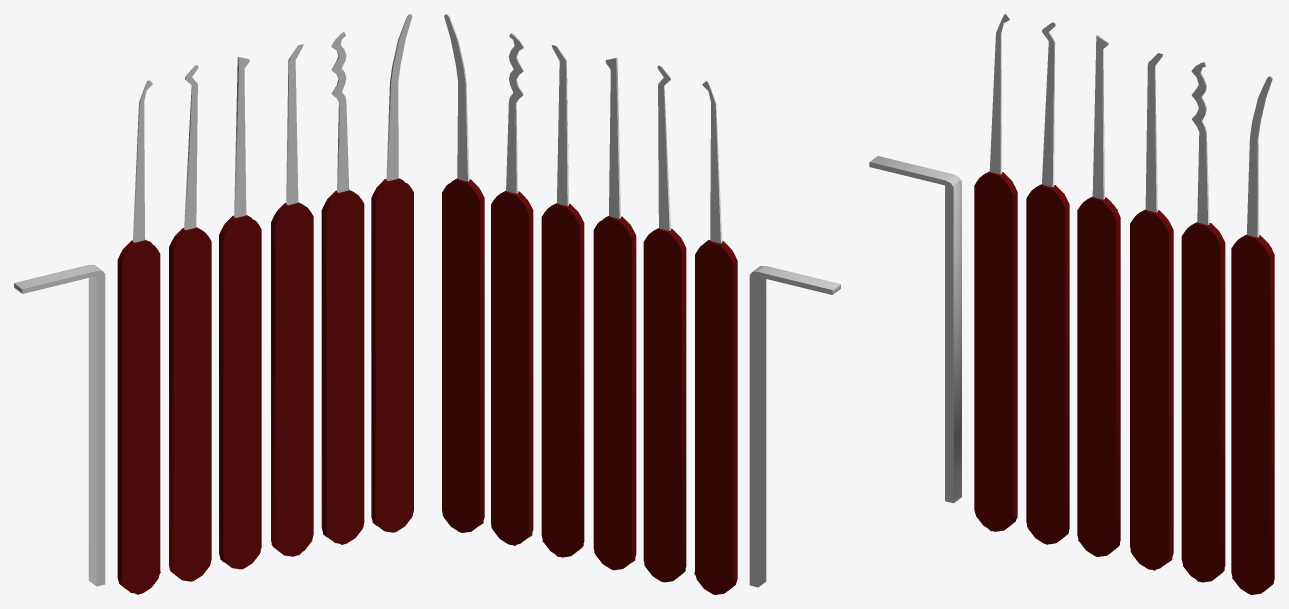
Rendered from lockpicks.glb.
The picture shows the model from 3 angles, left to right: view 1: azimuth 30°, elevation 25°; view 2: azimuth 150°, elevation 25°; view 3: azimuth 330°, elevation 25°; orthographic projection.
Parts seen in each view (by area): view 1: Object_4, Object_16, Object_13, Object_19, Object_10, Object_7, Object_22, Object_11, Object_20, Object_14, Object_17, Object_8 (+1 smaller); view 2: Object_10, Object_13, Object_7, Object_16, Object_19, Object_4, Object_22, Object_11, Object_20, Object_14, Object_17, Object_8 (+1 smaller); view 3: Object_16, Object_13, Object_19, Object_10, Object_4, Object_7, Object_22, Object_11, Object_14, Object_17, Object_20, Object_8 (+1 smaller).
Part boxes in pixels (x1=…): Object_4: x1=117, y1=239, x2=160, y2=594; Object_16: x1=321, y1=190, x2=364, y2=544; Object_13: x1=271, y1=202, x2=313, y2=556; Object_19: x1=371, y1=178, x2=413, y2=532; Object_10: x1=219, y1=215, x2=261, y2=569; Object_7: x1=169, y1=227, x2=211, y2=581; Object_22: x1=14, y1=265, x2=105, y2=586; Object_11: x1=234, y1=56, x2=249, y2=217; Object_20: x1=386, y1=14, x2=412, y2=180; Object_14: x1=286, y1=44, x2=303, y2=205; Object_17: x1=331, y1=32, x2=349, y2=192; Object_8: x1=184, y1=65, x2=198, y2=230; Object_10: x1=593, y1=216, x2=636, y2=570; Object_13: x1=541, y1=203, x2=584, y2=557; Object_7: x1=643, y1=228, x2=686, y2=582; Object_16: x1=491, y1=191, x2=533, y2=545; Object_19: x1=442, y1=178, x2=484, y2=532; Object_4: x1=694, y1=240, x2=737, y2=594; Object_22: x1=749, y1=266, x2=840, y2=587; Object_11: x1=605, y1=57, x2=620, y2=218; Object_20: x1=444, y1=14, x2=469, y2=181; Object_14: x1=551, y1=45, x2=568, y2=205; Object_17: x1=506, y1=33, x2=523, y2=193; Object_8: x1=657, y1=65, x2=670, y2=230; Object_16: x1=1181, y1=222, x2=1225, y2=582; Object_13: x1=1130, y1=209, x2=1173, y2=570; Object_19: x1=1231, y1=234, x2=1274, y2=594; Object_10: x1=1077, y1=196, x2=1120, y2=556; Object_4: x1=974, y1=171, x2=1017, y2=531; Object_7: x1=1026, y1=184, x2=1069, y2=544; Object_22: x1=869, y1=156, x2=961, y2=503; Object_11: x1=1092, y1=35, x2=1108, y2=199; Object_14: x1=1145, y1=53, x2=1163, y2=212; Object_17: x1=1191, y1=62, x2=1209, y2=224; Object_20: x1=1247, y1=76, x2=1272, y2=237; Object_8: x1=1042, y1=22, x2=1055, y2=187.
Bounding box in the file's own units: 2.43 × 3.03 × 0.0869.
2 materials, 1 textured.
